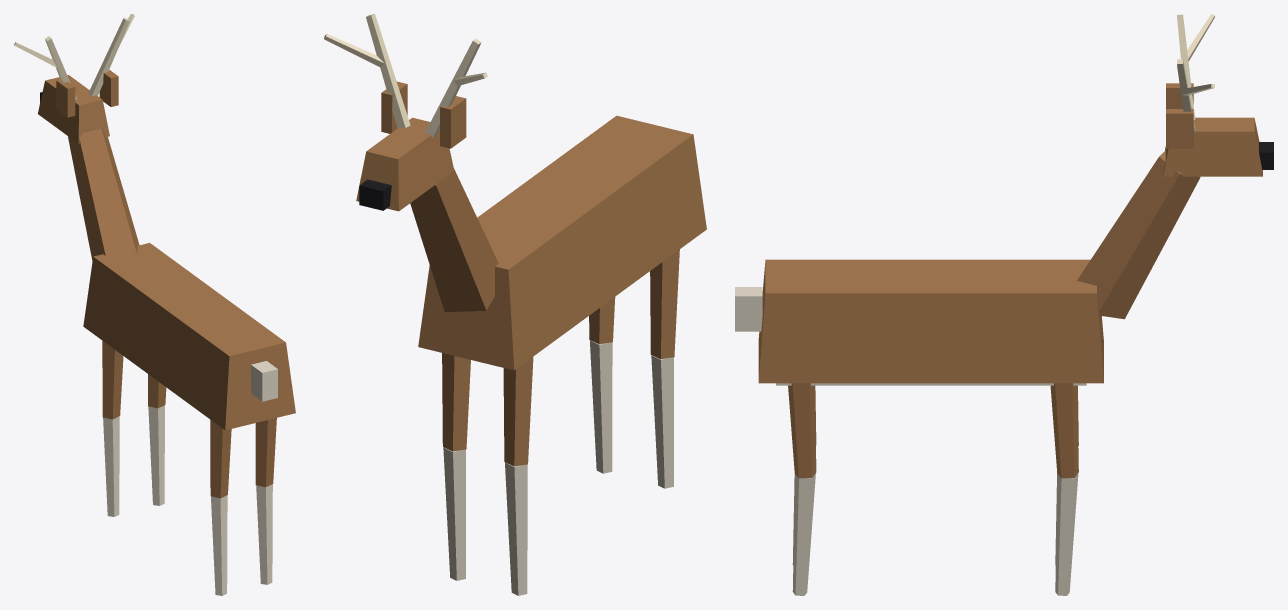
File: ani_deer.glb
3 renders of one model, left to right at view 1: azimuth 30°, elevation 25°; view 2: azimuth 150°, elevation 25°; view 3: azimuth 270°, elevation 25°, orthographic. The views are drawn at different scales.
Visible parts, largest first — view 1: ani_deer, ani_deer_head, ani_deer_leg_rl, ani_deer_leg_fl, ani_deer_leg_rr, ani_deer_leg_fr; view 2: ani_deer, ani_deer_head, ani_deer_leg_fl, ani_deer_leg_rl, ani_deer_leg_fr, ani_deer_leg_rr; view 3: ani_deer, ani_deer_head, ani_deer_leg_fr, ani_deer_leg_rr.
Boxes of the visible parts, x1=… form: ani_deer: x1=83, y1=243, x2=295, y2=430; ani_deer_head: x1=14, y1=14, x2=139, y2=261; ani_deer_leg_rl: x1=210, y1=420, x2=231, y2=595; ani_deer_leg_fl: x1=102, y1=341, x2=123, y2=516; ani_deer_leg_rr: x1=255, y1=418, x2=276, y2=584; ani_deer_leg_fr: x1=148, y1=374, x2=166, y2=505; ani_deer: x1=418, y1=115, x2=706, y2=370; ani_deer_head: x1=324, y1=14, x2=498, y2=312; ani_deer_leg_fl: x1=503, y1=357, x2=533, y2=595; ani_deer_leg_rl: x1=650, y1=249, x2=679, y2=488; ani_deer_leg_fr: x1=442, y1=353, x2=470, y2=580; ani_deer_leg_rr: x1=589, y1=297, x2=615, y2=473; ani_deer: x1=735, y1=259, x2=1103, y2=385; ani_deer_head: x1=1077, y1=14, x2=1273, y2=319; ani_deer_leg_fr: x1=1050, y1=383, x2=1078, y2=595; ani_deer_leg_rr: x1=788, y1=383, x2=816, y2=595.
Size of the model in its own units: 0.6131 by 2.17 by 1.95.
